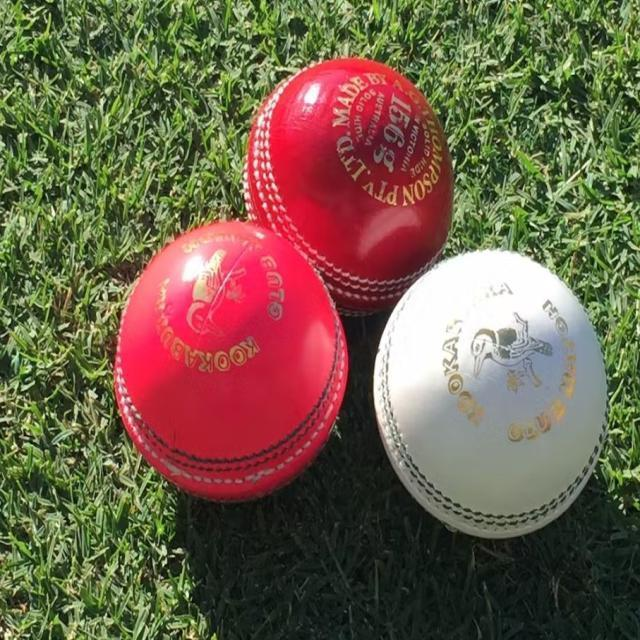cricket ball: (372, 250, 611, 540), (113, 219, 349, 503), (244, 56, 454, 319)
